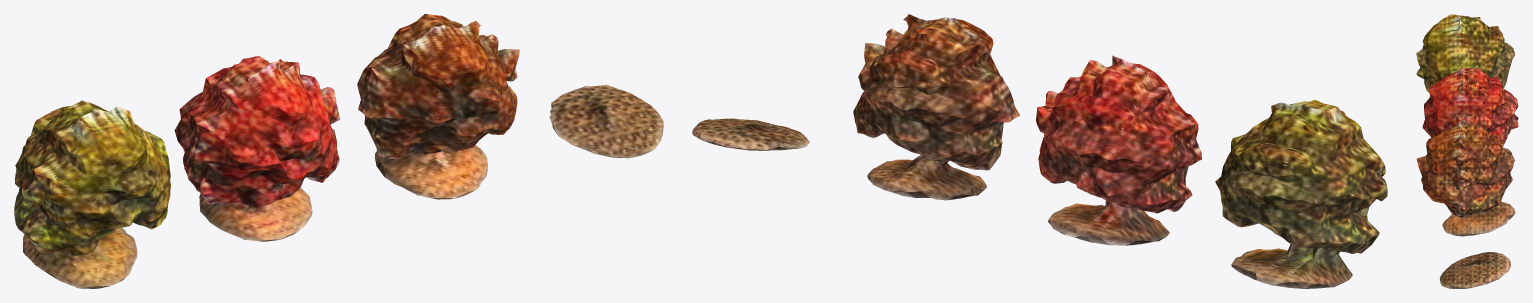
The model's file is tree_hero.glb.
The picture shows the model from 3 angles, left to right: view 1: azimuth 30°, elevation 25°; view 2: azimuth 150°, elevation 25°; view 3: azimuth 270°, elevation 25°; orthographic projection. The views are drawn at different scales.
Parts seen in each view (by area): view 1: geometry_0; view 2: geometry_0; view 3: geometry_0.
Boxes of the visible parts, x1,y1,x2,y2 form: geometry_0: (14,14,663,288); geometry_0: (692,14,1387,288); geometry_0: (1416,14,1518,288).
Bounding box in the file's own units: 0.9808 × 0.2431 × 0.2142.
Materials: 1 (1 with a texture image).
